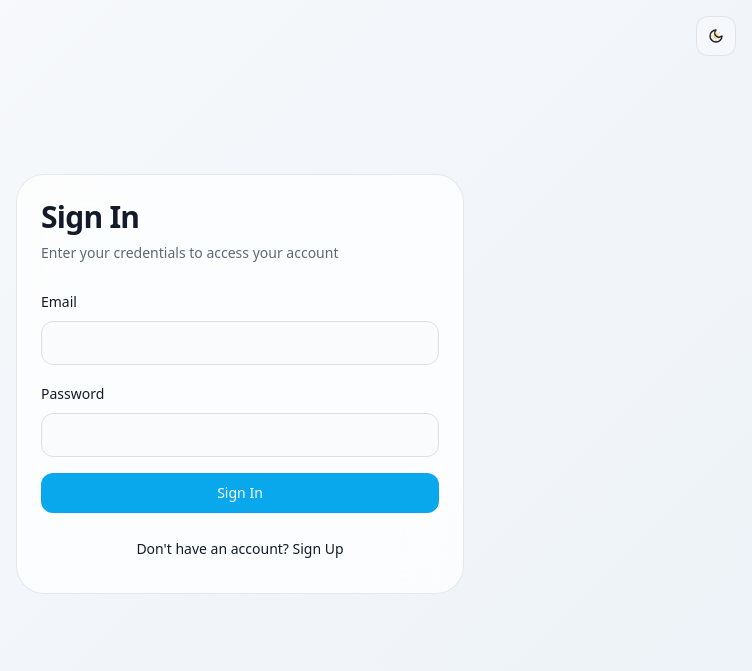
Scenario: Auth page › shows a username-specific error when the selected username is already taken
The width and height of the screenshot is (752, 671).
Step 1. Click the button "Don't have an account? Sign Up" → click(240, 549), box x1=41 y1=529 x2=439 y2=569
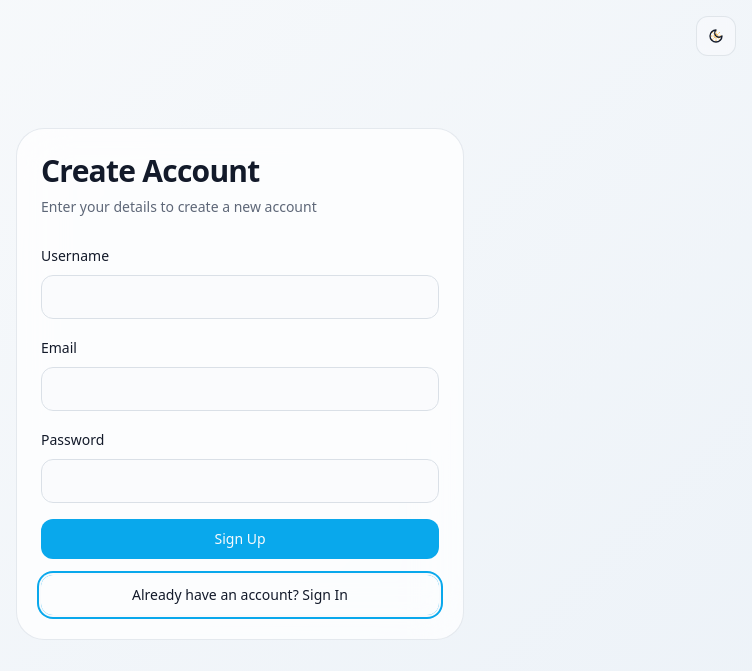
Step 2. Type "TakenName" into the field labelled "Username" → (240, 297), box x1=41 y1=275 x2=439 y2=319
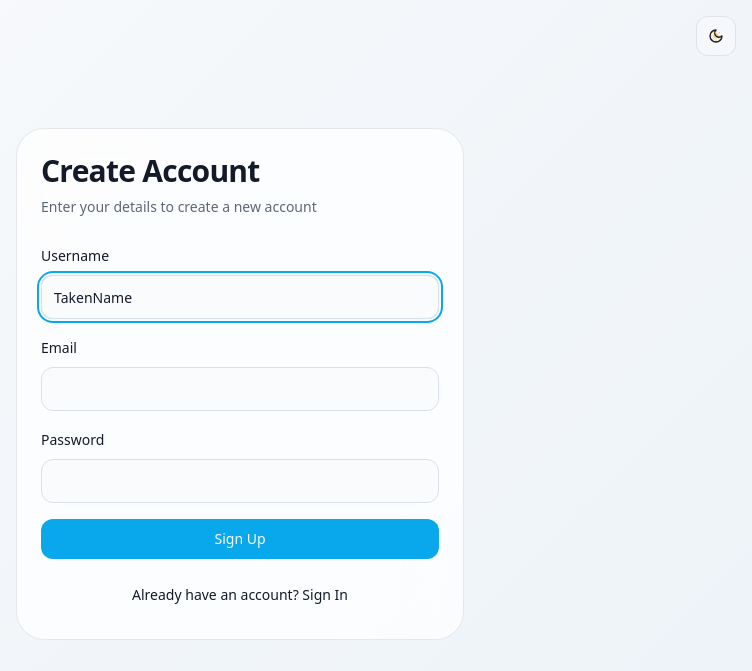
Step 3. Type "taken@example.com" into the field labelled "Email" → (240, 389), box x1=41 y1=367 x2=439 y2=411
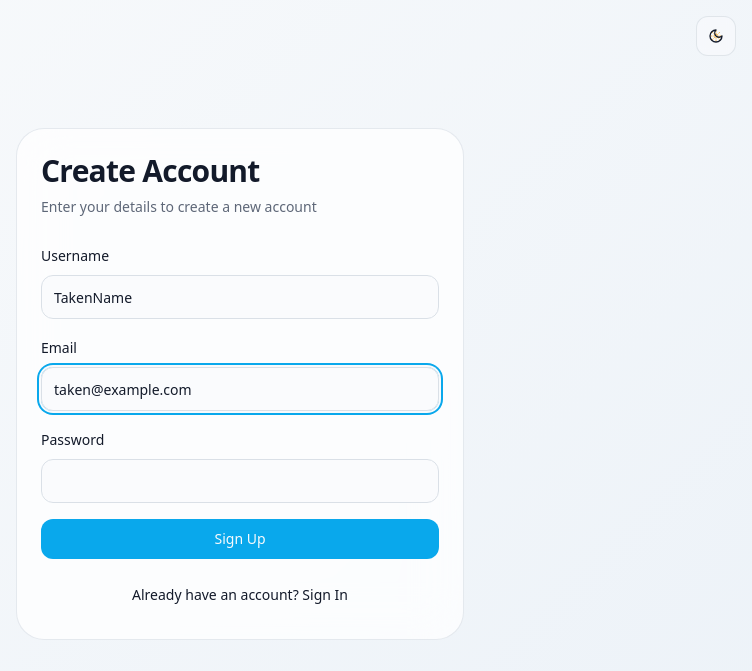
Step 4. Type "password123" into the password field labelled "Password" → (240, 481), box x1=41 y1=459 x2=439 y2=503
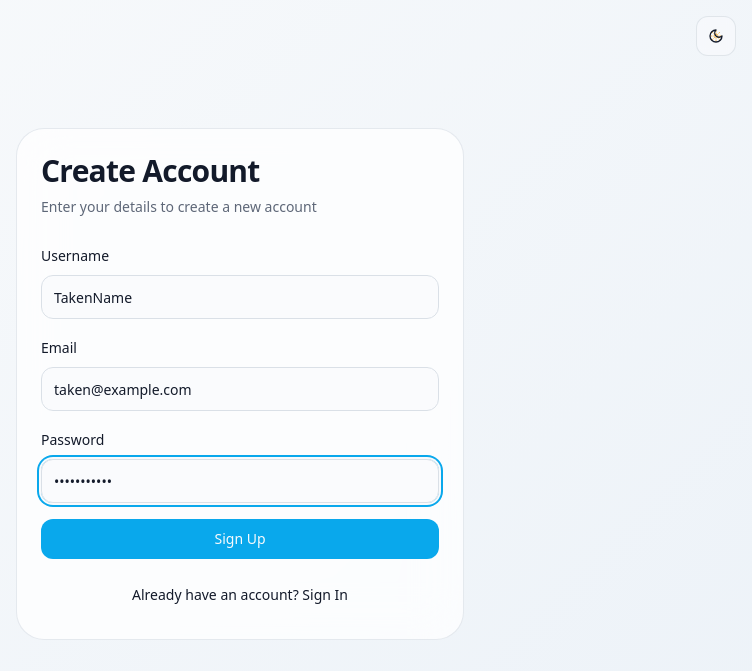
Step 5. Click the button "Sign Up" → click(240, 539), box x1=41 y1=519 x2=439 y2=559
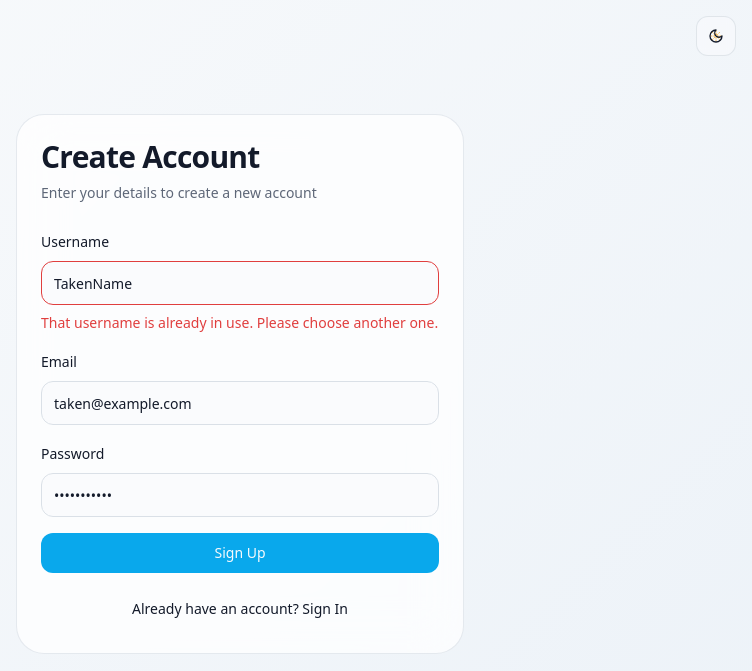
expect the message reads "That username is already in use. Please choose another one.": met, box x1=41 y1=313 x2=438 y2=332
